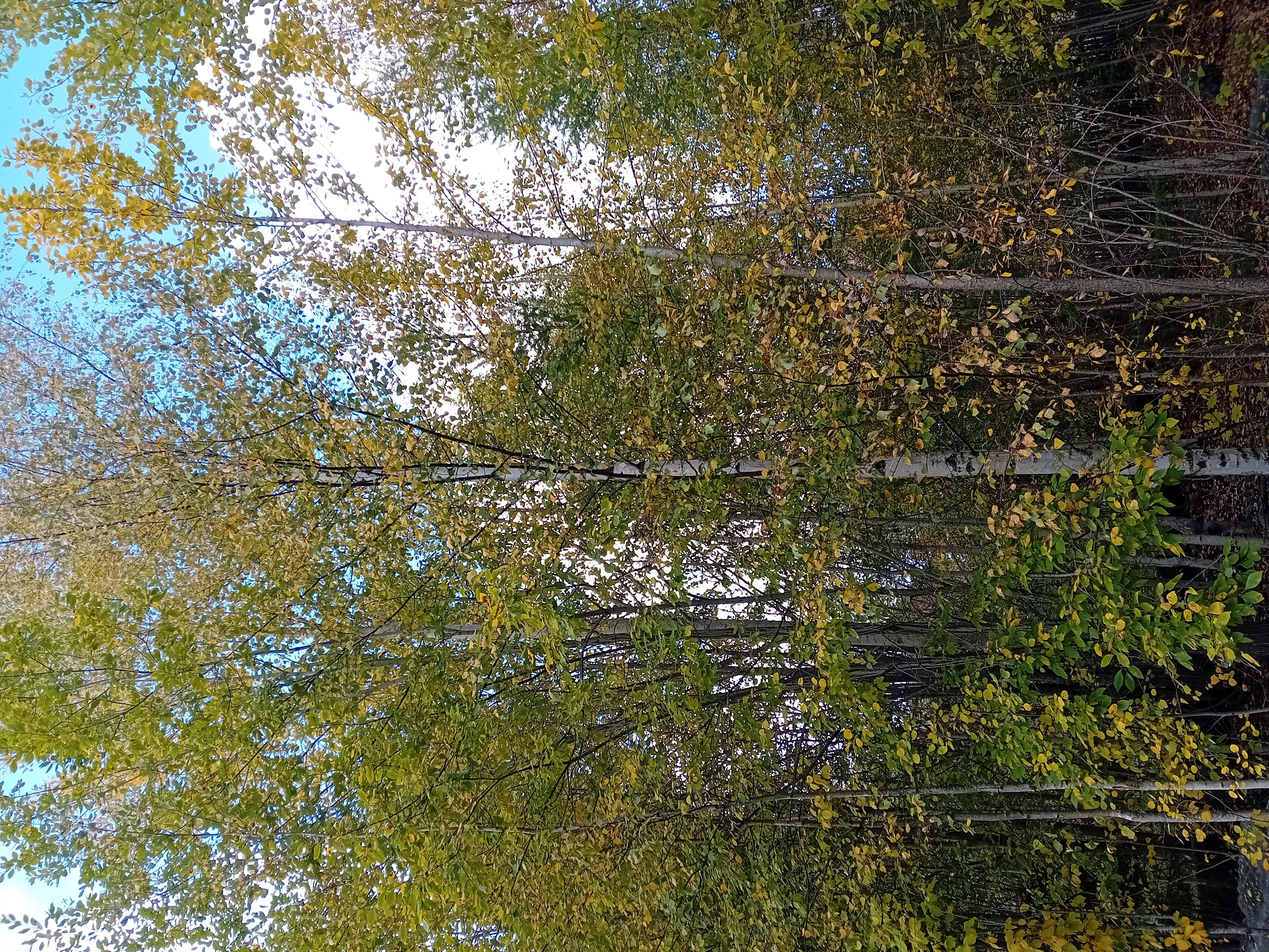Birch: (565, 72, 796, 952), (328, 31, 577, 759)
